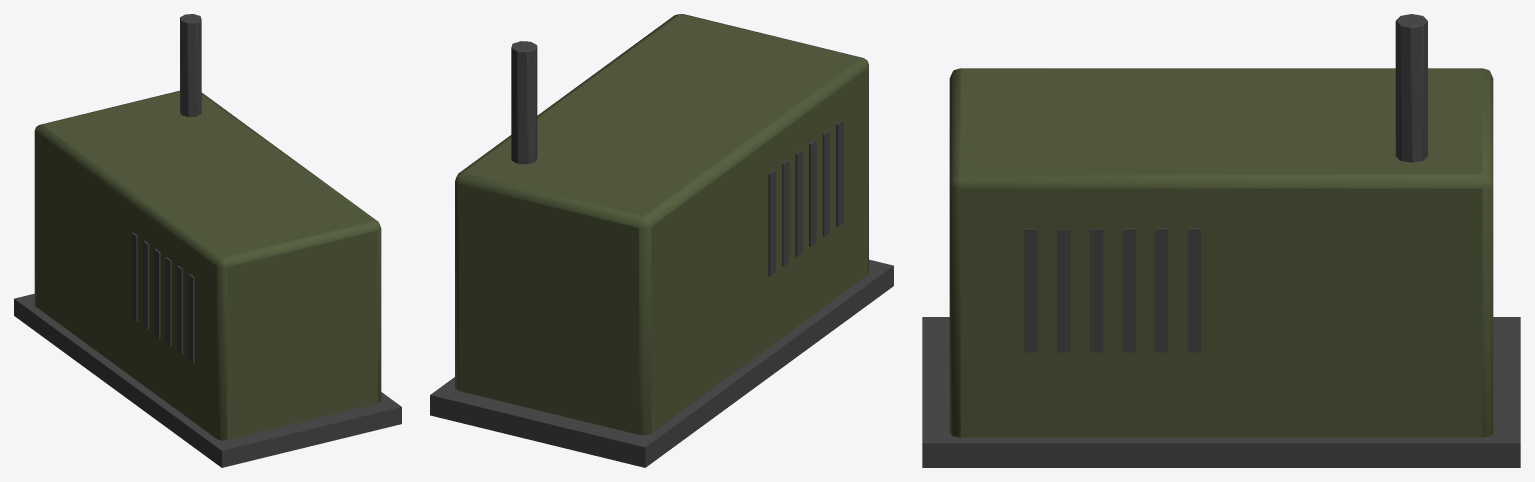
Rendered from Prop_Generator.fbx.
The picture shows the model from 3 angles, left to right: view 1: azimuth 30°, elevation 25°; view 2: azimuth 150°, elevation 25°; view 3: azimuth 270°, elevation 25°; orthographic projection. The views are drawn at different scales.
Visible parts, largest first — view 1: Prop_Generator_Mesh; view 2: Prop_Generator_Mesh; view 3: Prop_Generator_Mesh.
Part boxes in pixels (<box>): Prop_Generator_Mesh: <box>14,14,401,467</box>; Prop_Generator_Mesh: <box>430,14,893,467</box>; Prop_Generator_Mesh: <box>922,14,1520,467</box>.
Size of the model in its own units: 1.1 by 1.7 by 2.2.
